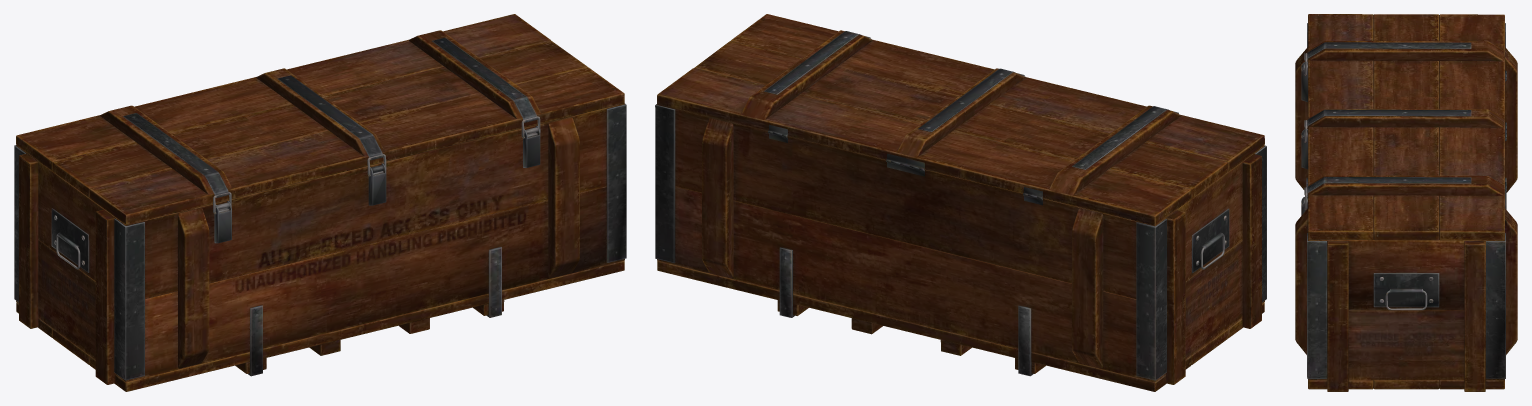
Rendered from wooden_military_crate.glb.
The picture shows the model from 3 angles, left to right: view 1: azimuth 30°, elevation 25°; view 2: azimuth 150°, elevation 25°; view 3: azimuth 270°, elevation 25°; orthographic projection. The views are drawn at different scales.
Visible parts, largest first — view 1: wooden_military_crate, wooden_military_crate_lid; view 2: wooden_military_crate, wooden_military_crate_lid; view 3: wooden_military_crate_lid, wooden_military_crate.
Part boxes in pixels (<box>): wooden_military_crate: <box>14,103,626,391</box>; wooden_military_crate_lid: <box>16,14,624,224</box>; wooden_military_crate: <box>655,104,1266,391</box>; wooden_military_crate_lid: <box>657,14,1264,225</box>; wooden_military_crate_lid: <box>1304,14,1506,240</box>; wooden_military_crate: <box>1295,23,1517,391</box>.
Bounding box in the file's own units: 1.24 × 0.4647 × 0.5198.
Materials: 1 (1 with a texture image).
